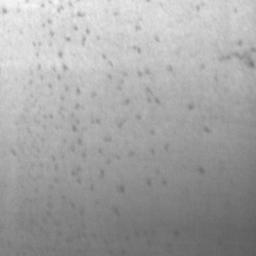Pitted surface: (0, 0, 163, 183), (191, 0, 256, 82), (179, 3, 205, 22), (167, 65, 173, 72)
